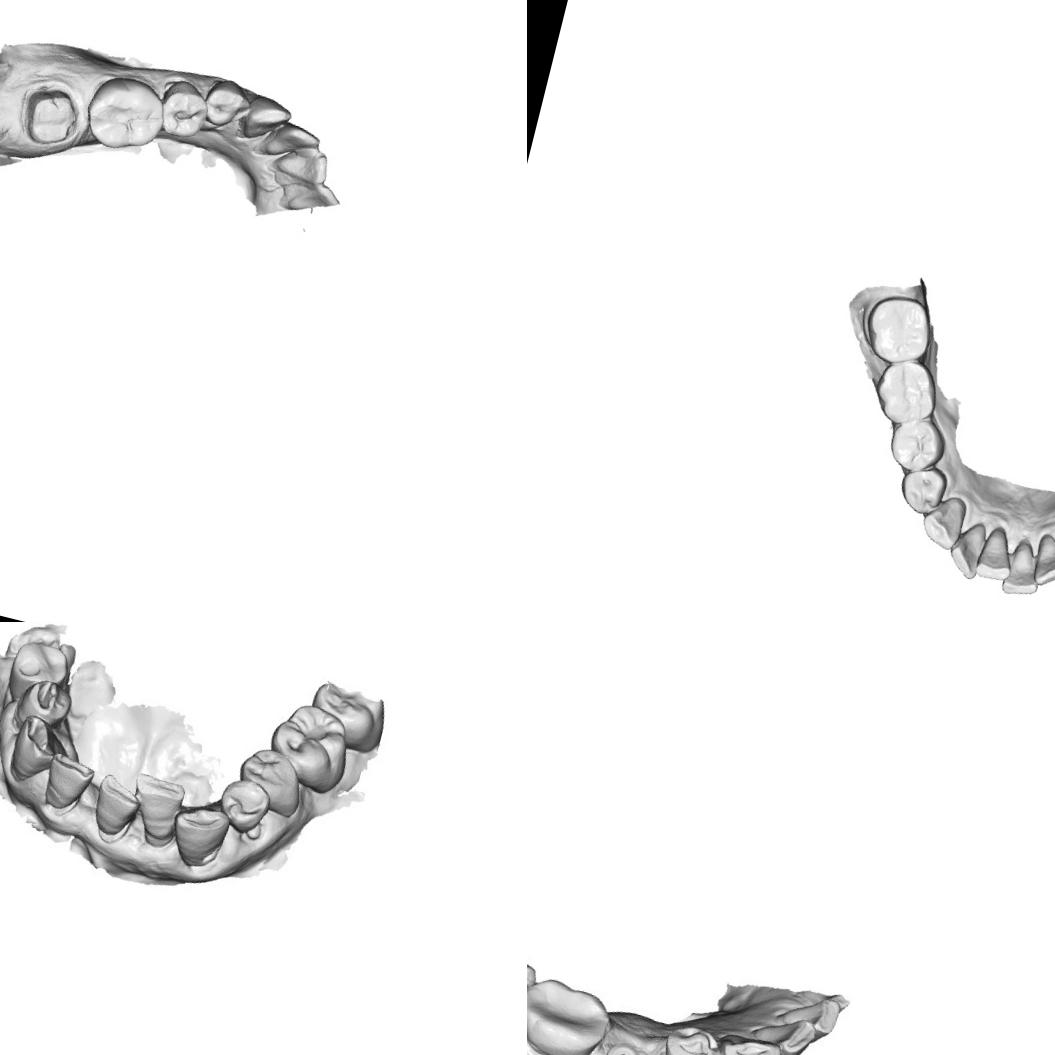canine: (8, 716, 65, 782), (237, 88, 298, 149), (914, 488, 970, 554), (216, 778, 276, 839)
crown: (10, 74, 89, 155)
implant: (598, 1031, 650, 1055)
incisor: (122, 771, 193, 855), (166, 804, 230, 874), (87, 772, 145, 846), (39, 750, 95, 818), (259, 114, 324, 168), (943, 515, 992, 583), (970, 521, 1022, 585), (269, 138, 334, 188), (999, 538, 1047, 602), (714, 1022, 781, 1055), (1027, 530, 1055, 592)
molar: (76, 67, 173, 160), (265, 698, 354, 788), (856, 286, 941, 371), (527, 972, 611, 1055), (866, 350, 946, 432)
premolar: (882, 410, 953, 480), (240, 747, 308, 816), (152, 73, 214, 143), (7, 634, 71, 700), (892, 458, 950, 520), (198, 72, 256, 132), (20, 673, 77, 729), (653, 1017, 728, 1055)
